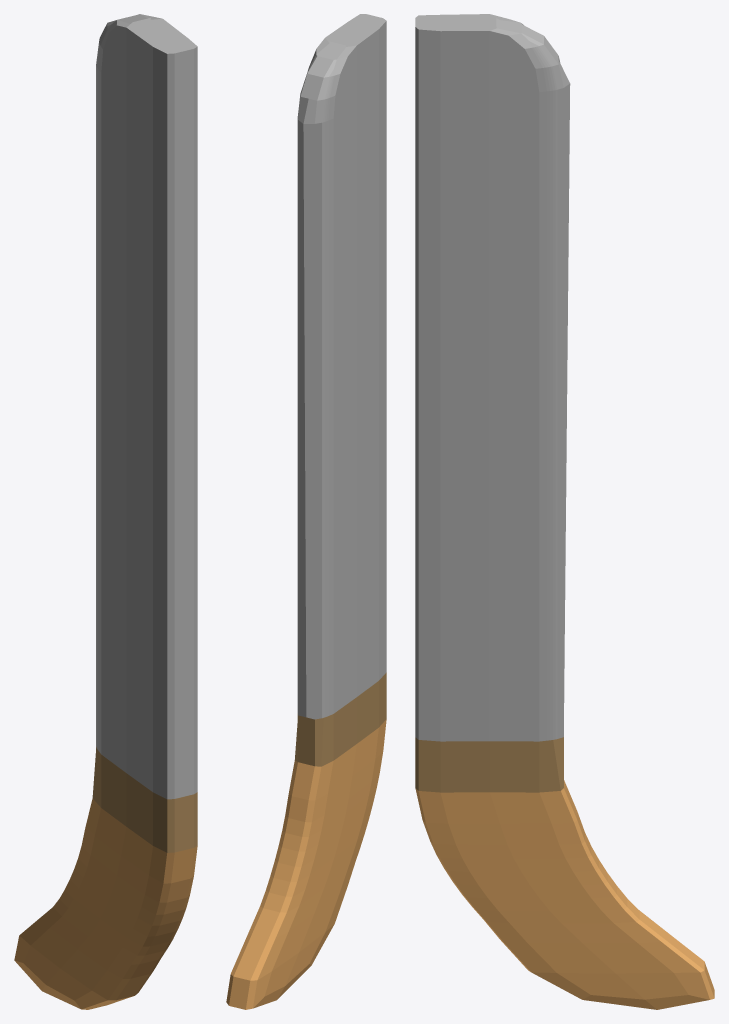
The model's file is Golok.fbx.
The picture shows the model from 3 angles, left to right: view 1: azimuth 30°, elevation 25°; view 2: azimuth 150°, elevation 25°; view 3: azimuth 270°, elevation 25°; orthographic projection. The views are drawn at different scales.
Visible parts, largest first — view 1: Cube; view 2: Cube; view 3: Cube.
Boxes of the visible parts, x1=… form: Cube: x1=14, y1=14, x2=197, y2=1009; Cube: x1=226, y1=14, x2=386, y2=1009; Cube: x1=415, y1=14, x2=714, y2=1009.
Bounding box in the file's own units: 6.84 × 184 × 50.65.
